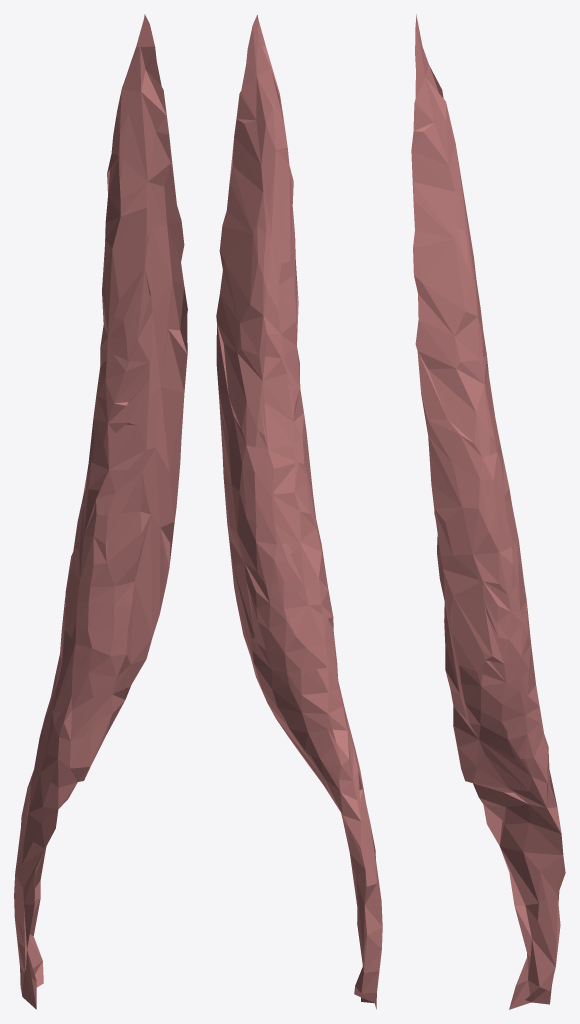
The model's file is Short_head_of_biceps_femoris_muscle.r.glb.
3 views of the same model, side by side, from view 1: azimuth 30°, elevation 25°; view 2: azimuth 210°, elevation 25°; view 3: azimuth 270°, elevation 25° (orthographic). The views are drawn at different scales.
Parts seen in each view (by area): view 1: Short_head_of_biceps_femoris_muscle.r; view 2: Short_head_of_biceps_femoris_muscle.r; view 3: Short_head_of_biceps_femoris_muscle.r.
Part boxes in pixels (x1,y1,x2,y2): Short_head_of_biceps_femoris_muscle.r: [14, 14, 187, 1009]; Short_head_of_biceps_femoris_muscle.r: [216, 14, 382, 1009]; Short_head_of_biceps_femoris_muscle.r: [411, 14, 565, 1009].
Size of the model in its own units: 0.0363 by 0.2999 by 0.0408.
